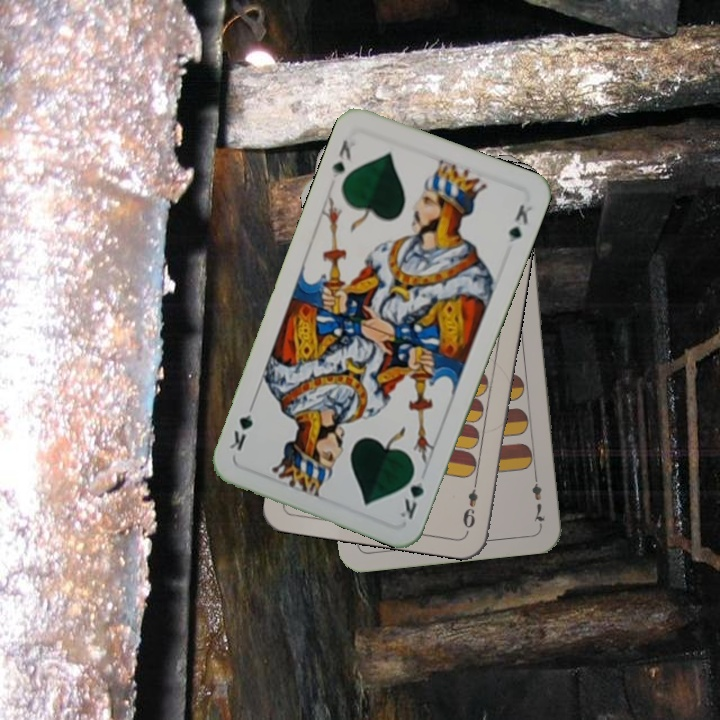E7: (527, 468, 547, 527)
E9: (459, 475, 481, 531)
GK: (396, 464, 427, 522), (328, 135, 354, 181)
